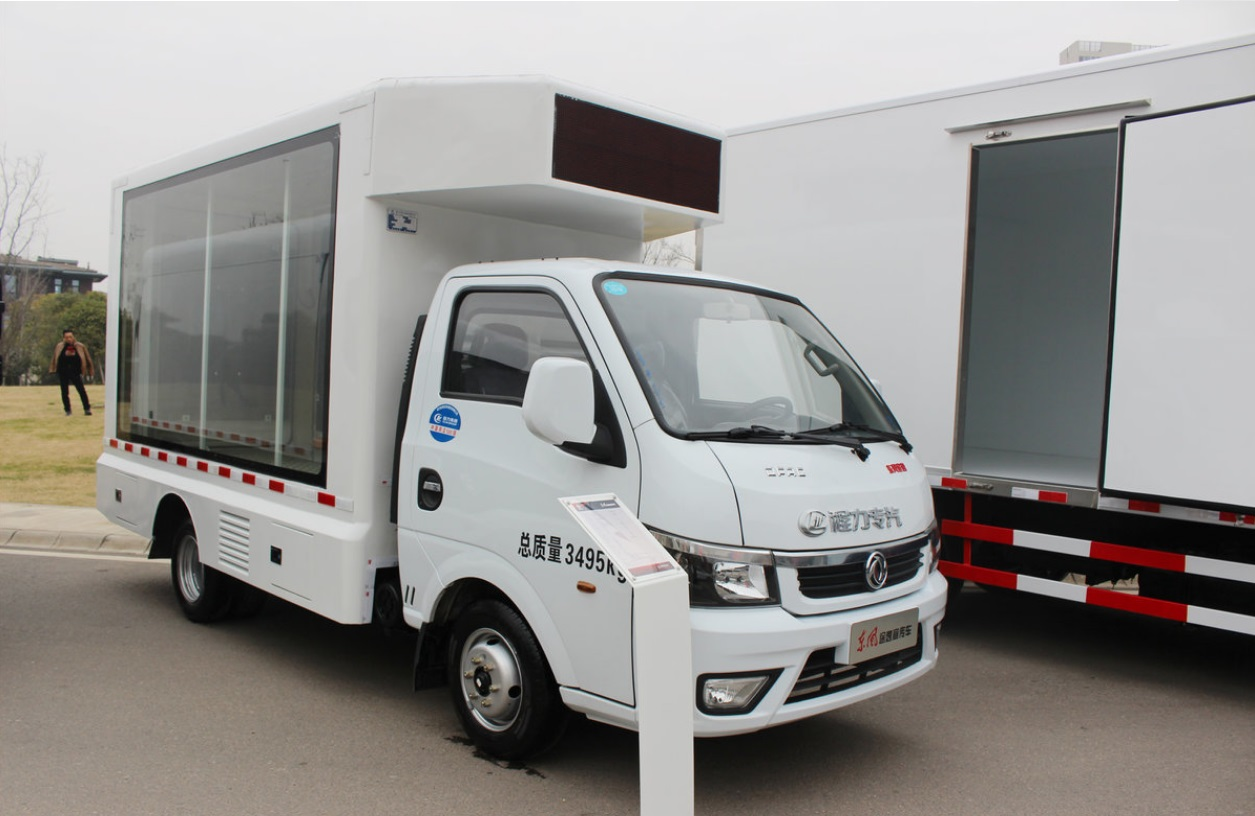truck: (101, 72, 951, 772)
